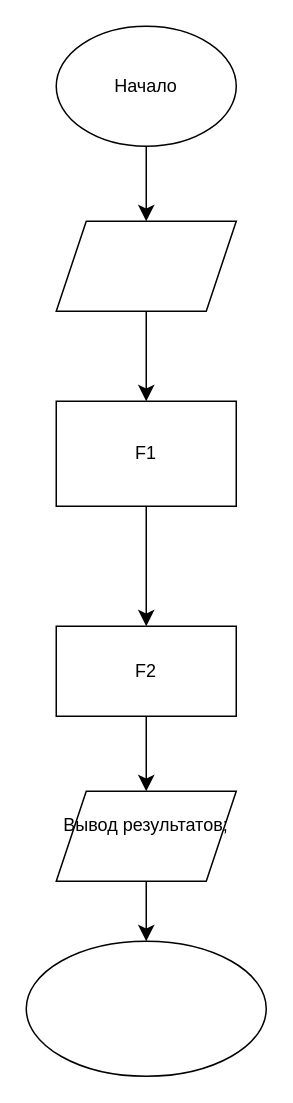
This 293x1103 diagram has some shape labels left out. The shapes that lost their labels are listed below. From the top down, each one's box as (x1, y1, x2, y2) in pixels, then its label:
(55, 220, 236, 311): Chanel, x
(25, 940, 266, 1076): Конец
